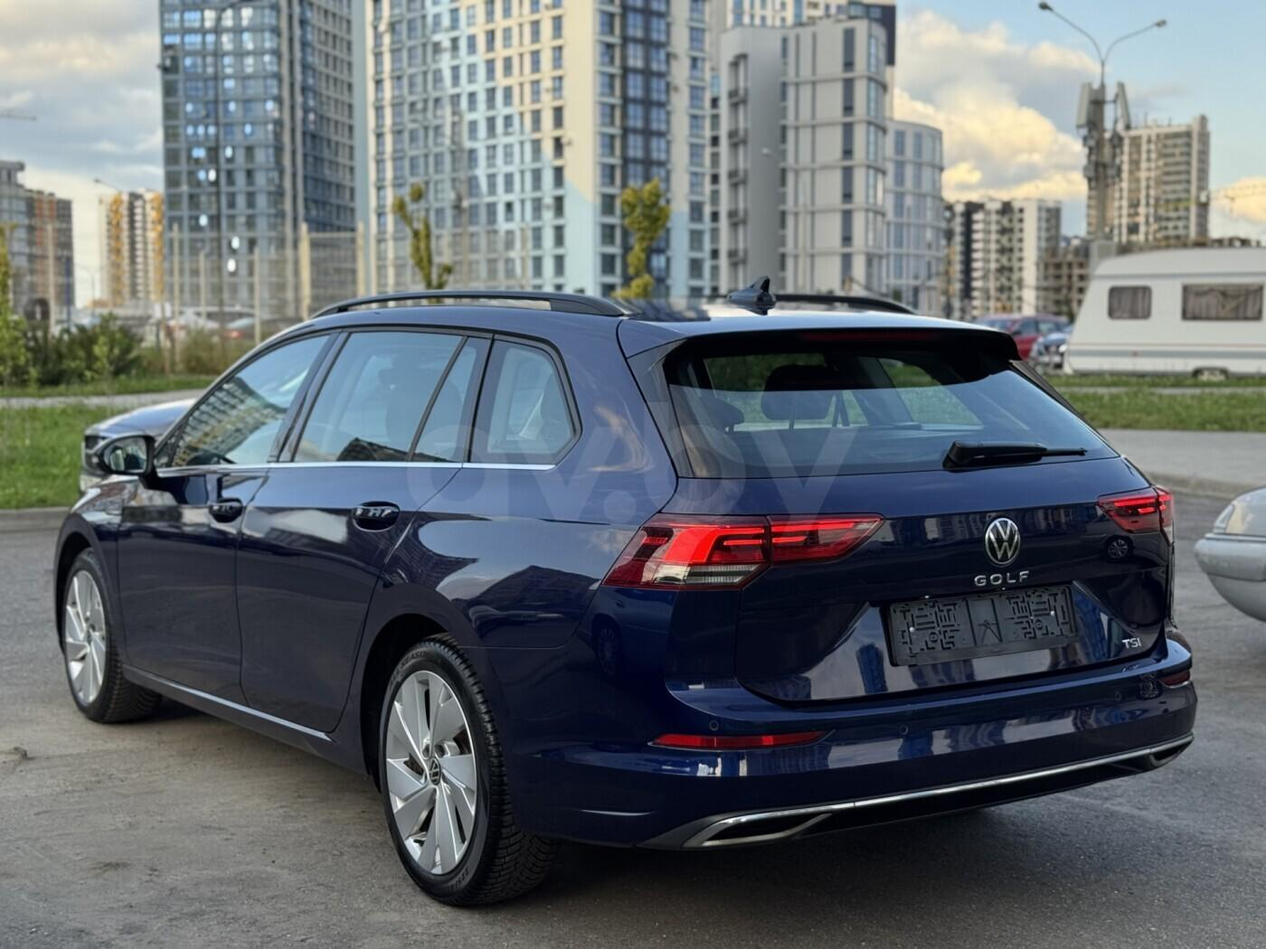Golf_2019: (44, 287, 1204, 904)
